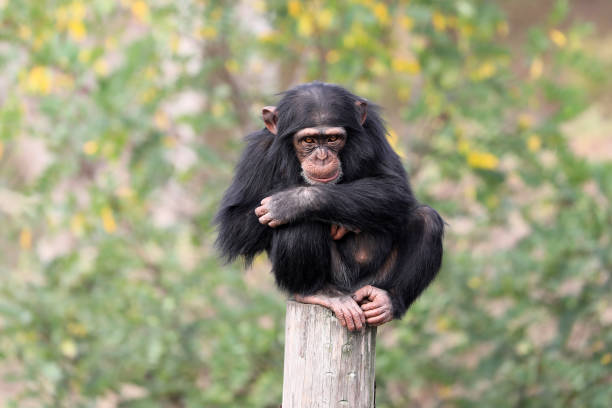chimpanzee: (246, 72, 376, 198)
